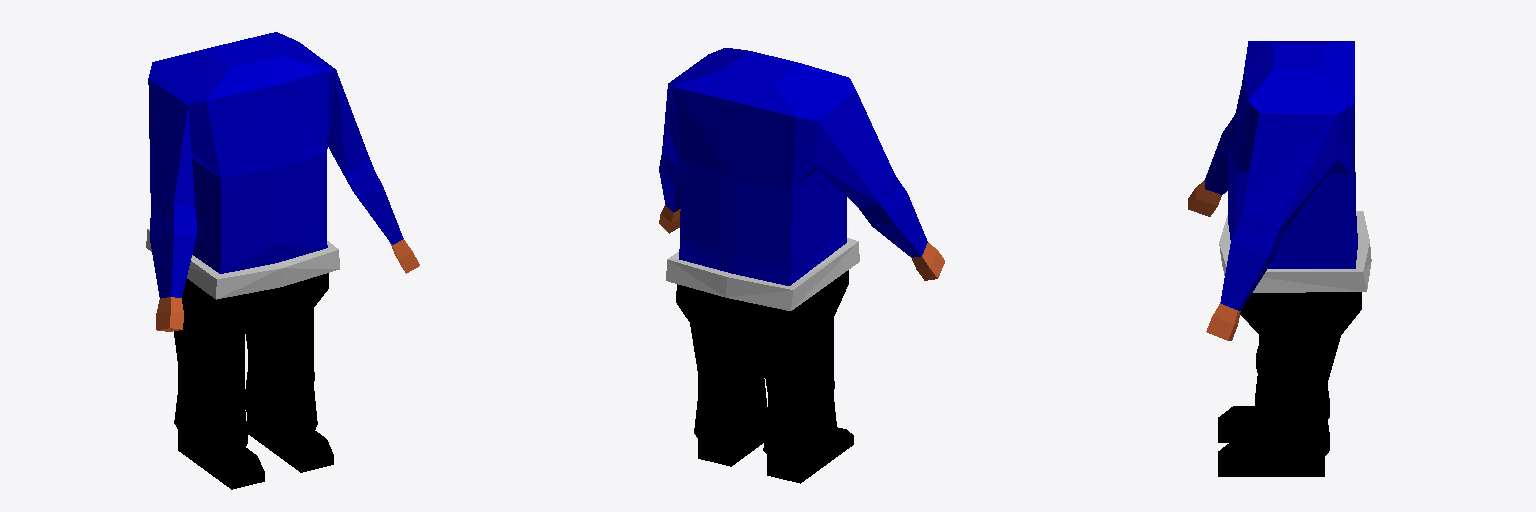
The model's file is figur_koerper.obj.
3 renders of one model, left to right at view 1: azimuth 30°, elevation 25°; view 2: azimuth 150°, elevation 25°; view 3: azimuth 270°, elevation 25°, orthographic.
Parts seen in each view (by area): view 1: Cube; view 2: Cube; view 3: Cube.
Part boxes in pixels (x1,y1,x2,y2): Cube: (146,32,419,489); Cube: (659,48,944,483); Cube: (1188,41,1371,476).
Bounding box in the file's own units: 0.8166 × 1.14 × 0.4798.